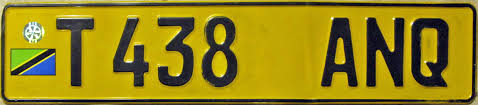T: (54, 12, 99, 90)
